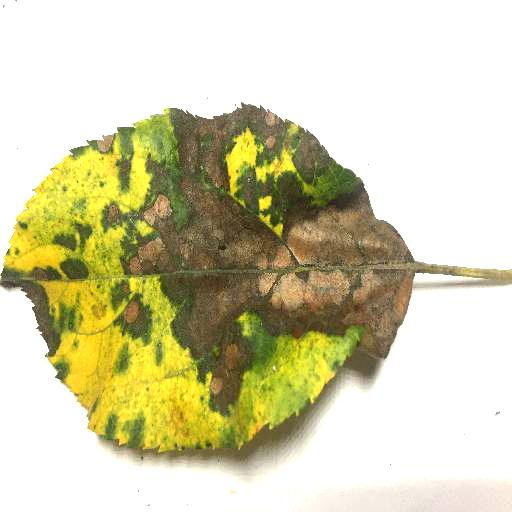Brown_Spot: (162, 107, 408, 412), (118, 283, 146, 326), (126, 243, 162, 273), (142, 193, 172, 224), (93, 136, 117, 152), (108, 204, 119, 224)
